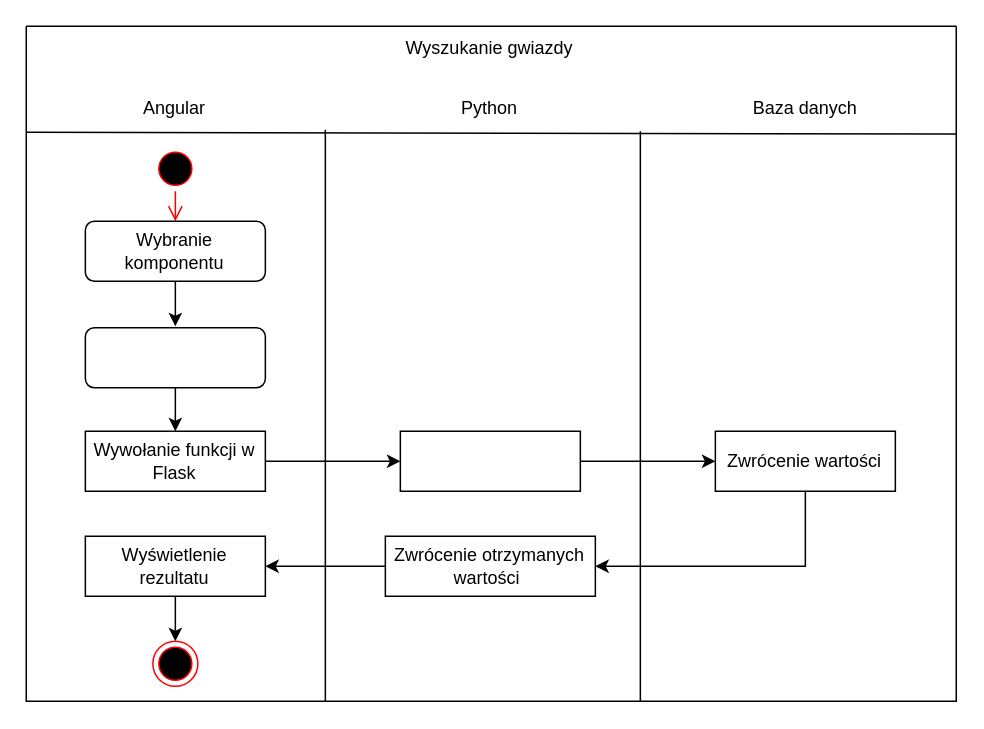
Image size: 984x729. Some labels were removed from this diagram. Here are the shapes that lost their labels. From the top down, the centre of each, then its label:
At pixel 174 357: "Wprowadzenie danych".
At pixel 489 460: "Wykonanie zapytania do bazy danych".
